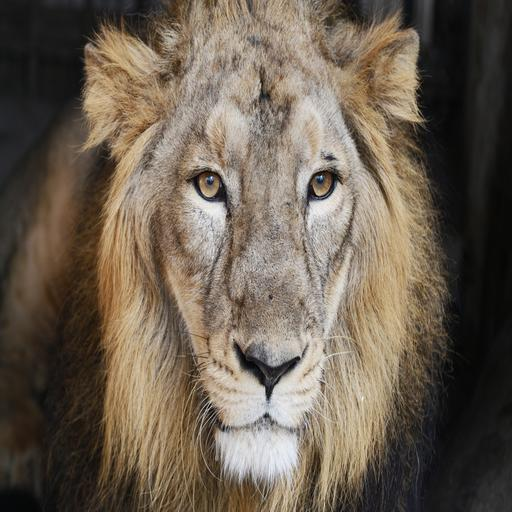Lion: (0, 0, 460, 512)
